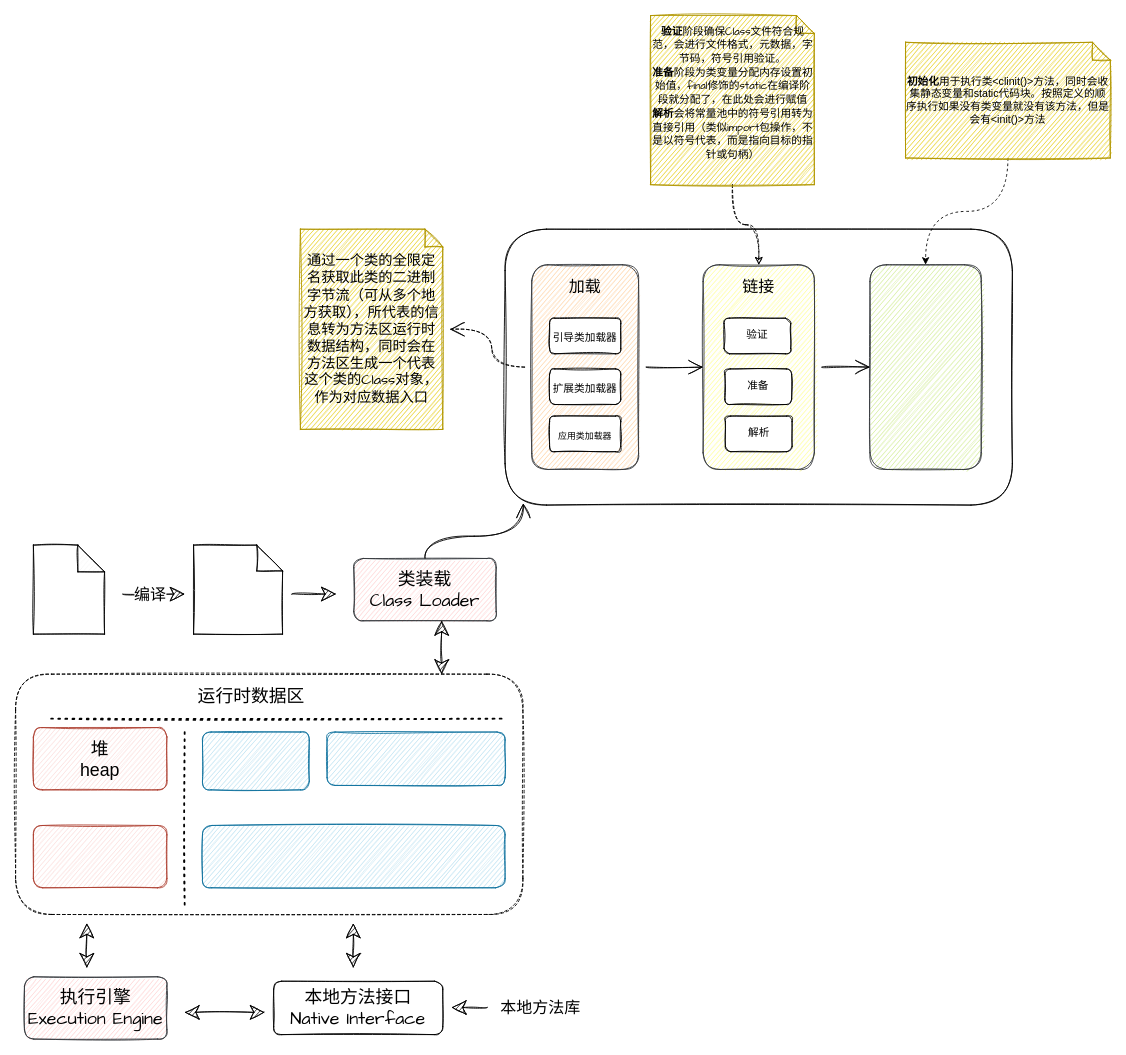
Some shapes in this 1126 by 1055 pixel diagram are drawn without their labels. Each missing label, with the centre of its shape:
"Class Files" belongs at (x=238, y=589).
"Java File" belongs at (x=68, y=589).
"Java栈 Java Stack" belongs at (x=255, y=760).
"初始化" belongs at (x=925, y=366).
"方法区 Method area" belongs at (x=99, y=856).
"本地方法栈 Native Method Stack" belongs at (x=415, y=758).
"程序计数器 Program Counter Register" belongs at (x=353, y=856).
